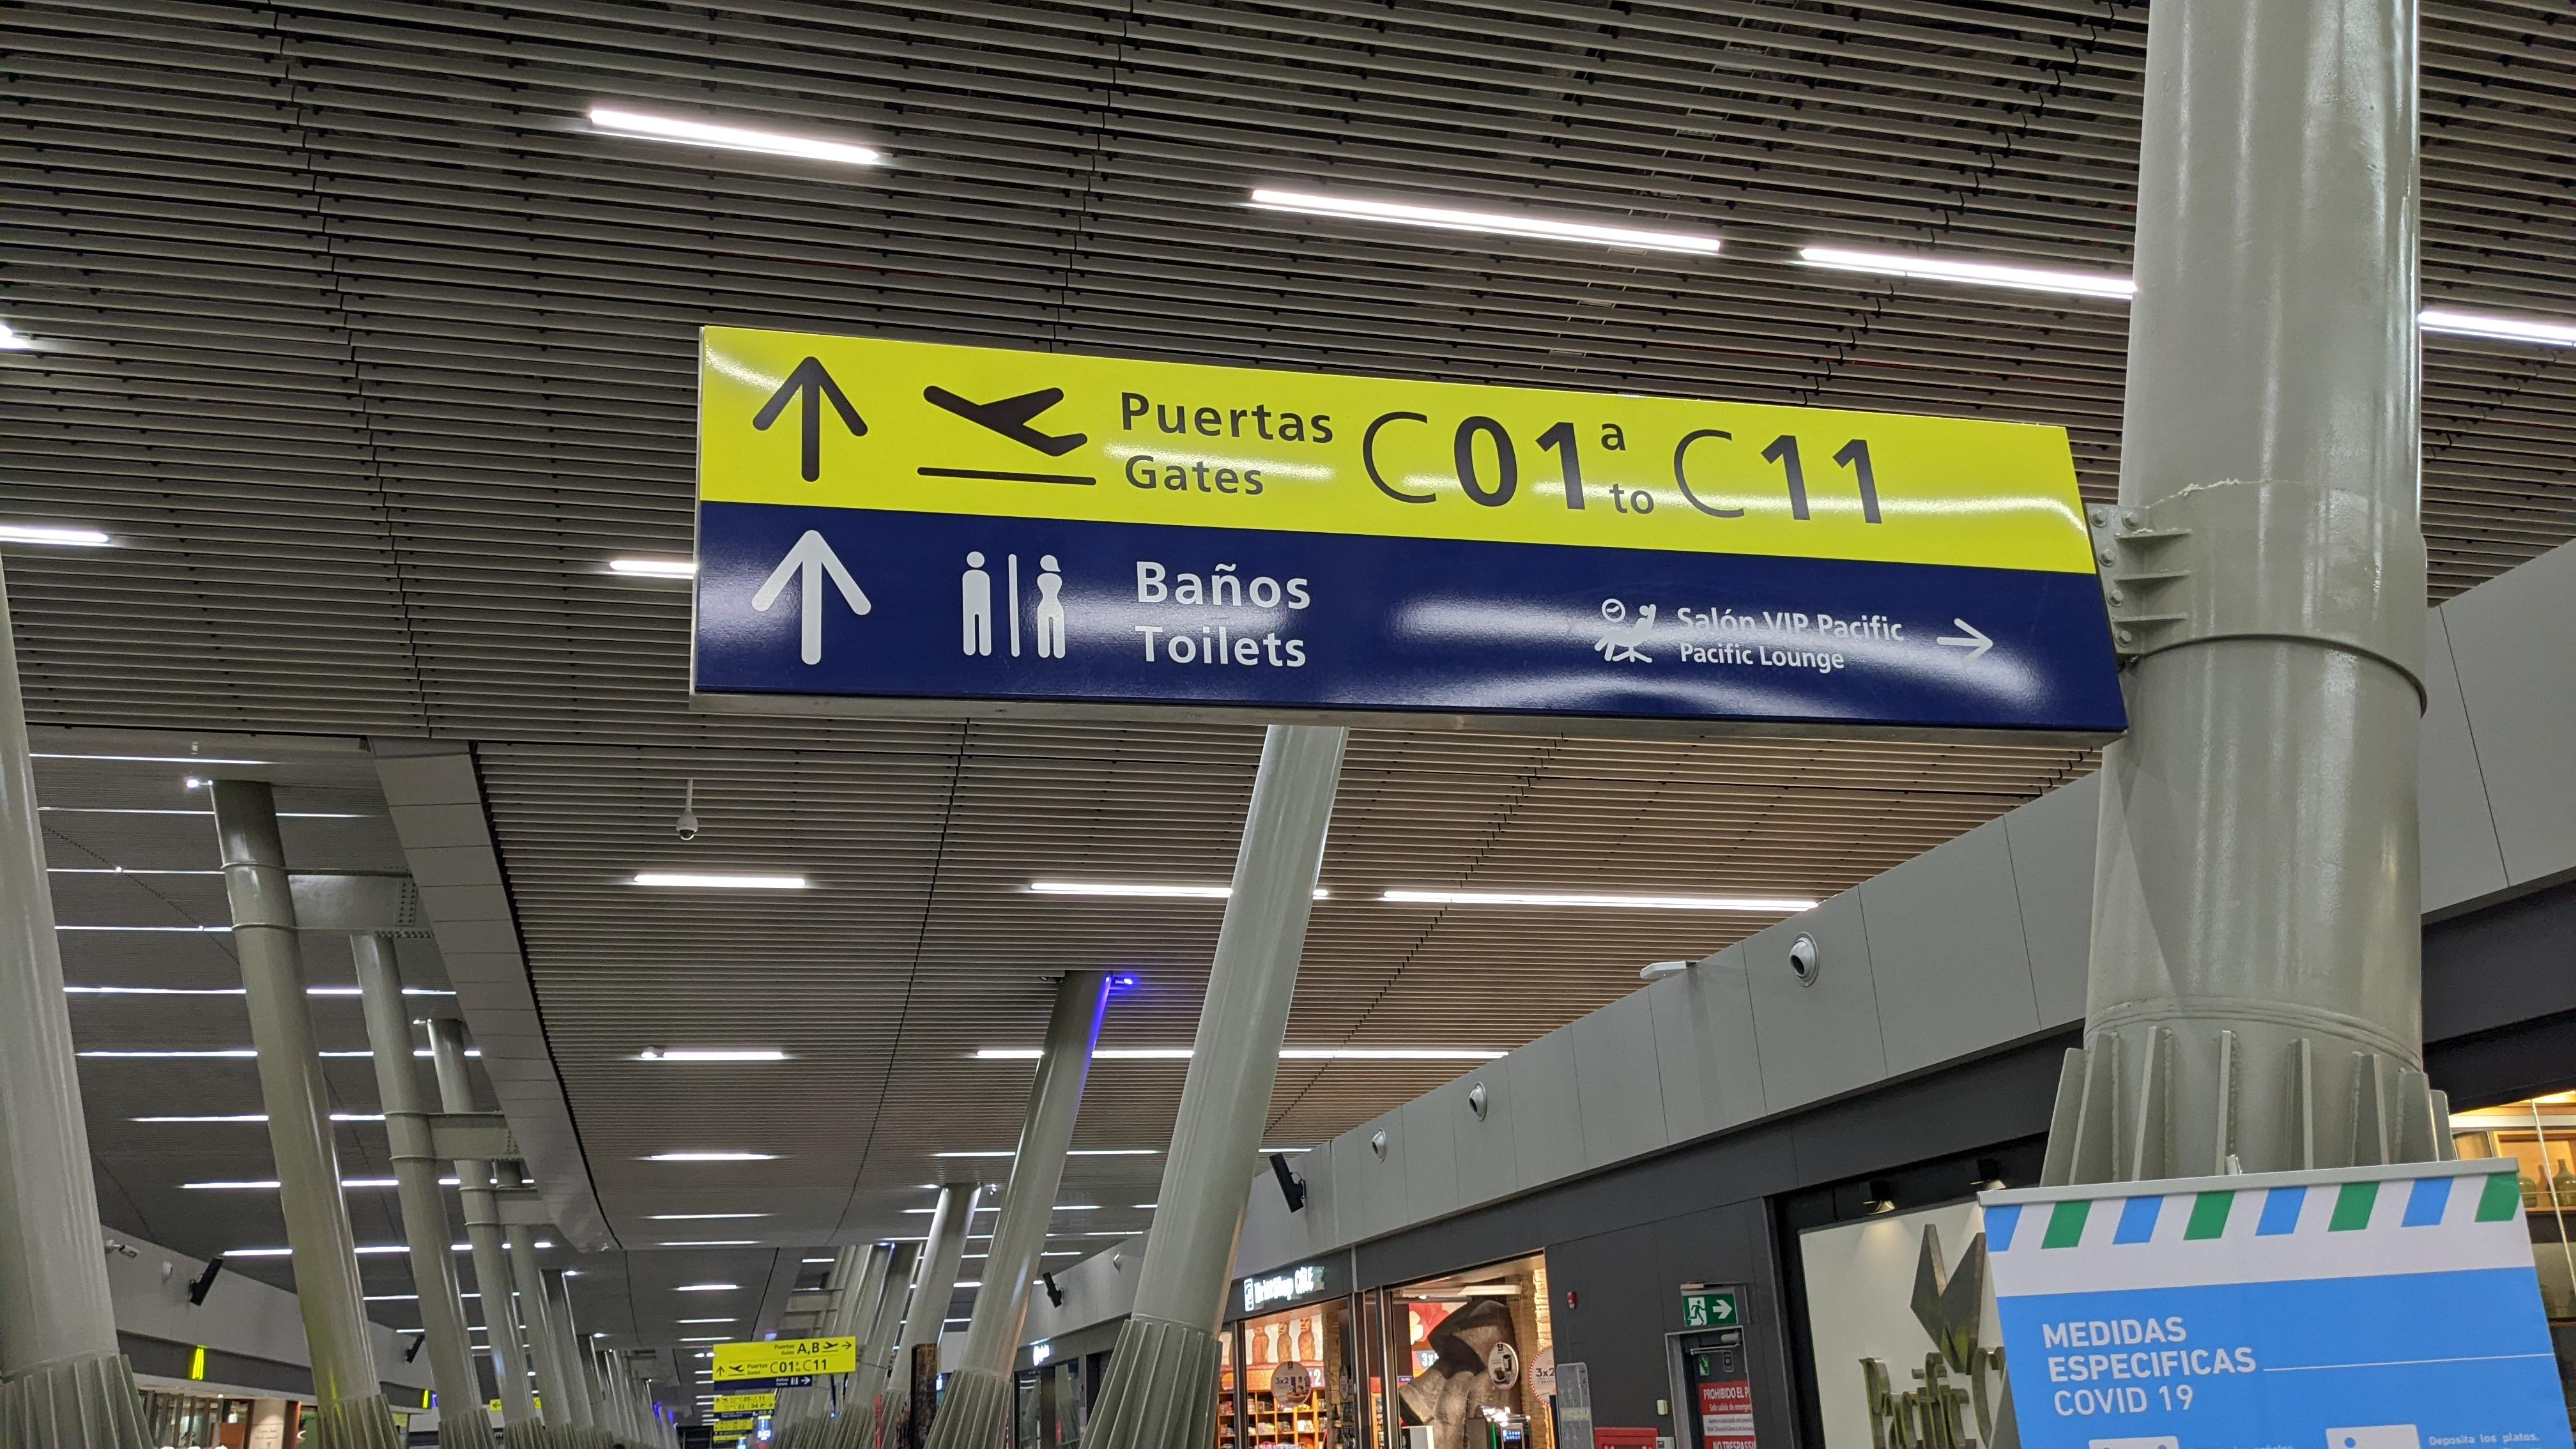airplane symbol: (915, 368, 1095, 467), (729, 1362, 745, 1373), (823, 1339, 839, 1350)
bathrooms: (952, 545, 1072, 669), (791, 1376, 800, 1385)
right arrow: (1932, 616, 1996, 669)
thin right arrow: (748, 525, 878, 669), (750, 352, 872, 488), (840, 1341, 853, 1350), (800, 1376, 810, 1385)
thin up arrow: (717, 1366, 725, 1378)
up arrow: (768, 1410, 773, 1415)
